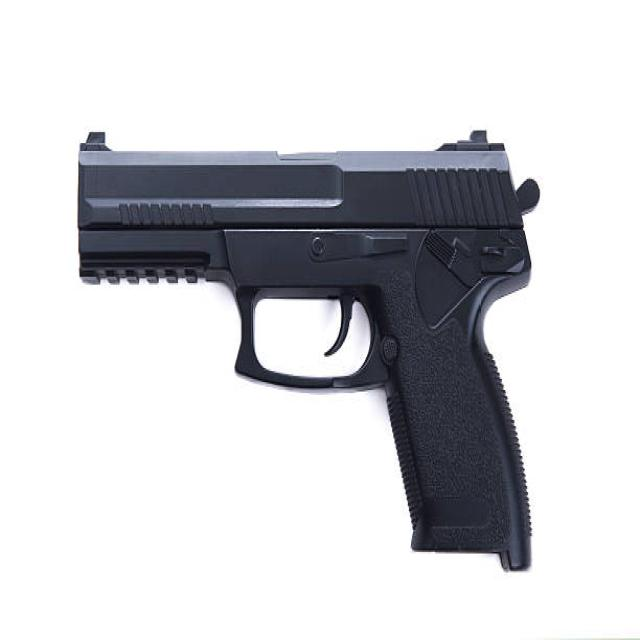pistol: (72, 114, 546, 577)
